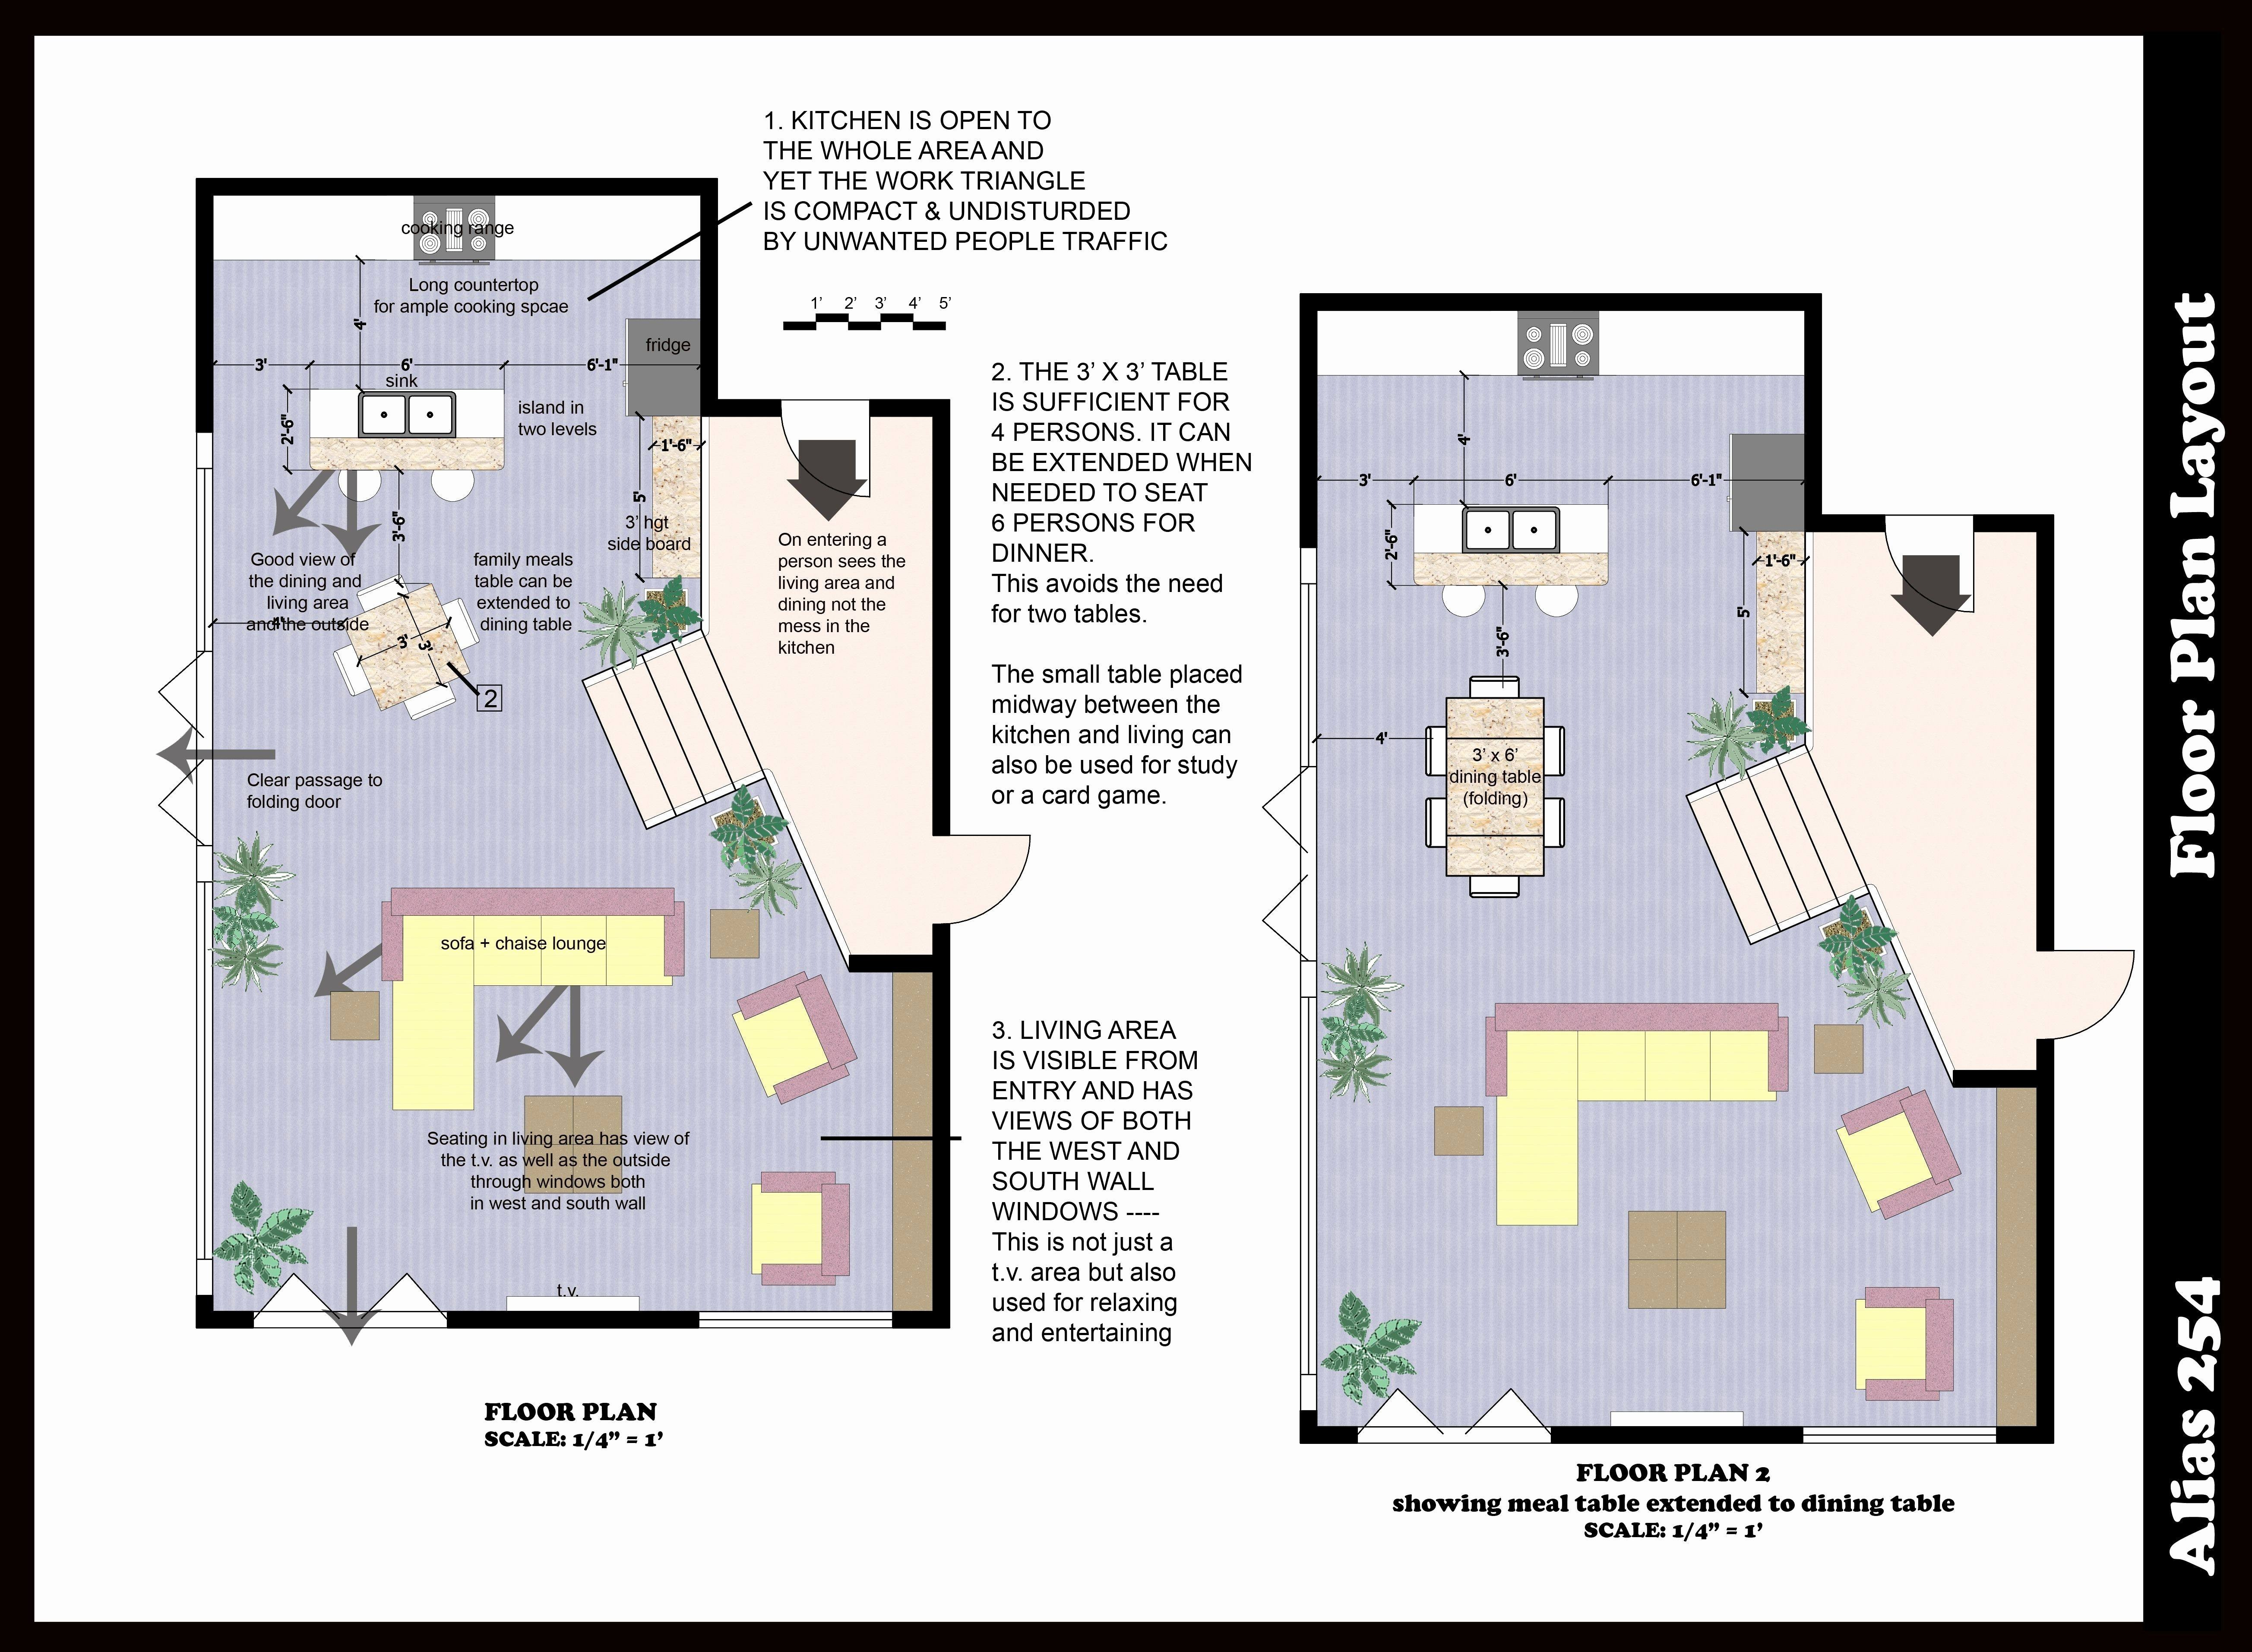door: (949, 832, 1037, 928), (2056, 949, 2144, 1044)
